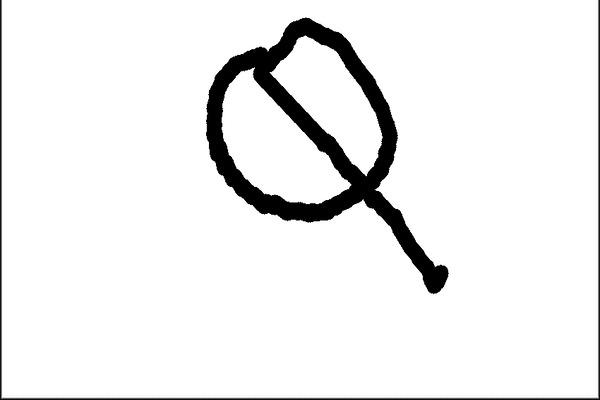Q: (196, 10, 458, 299)
